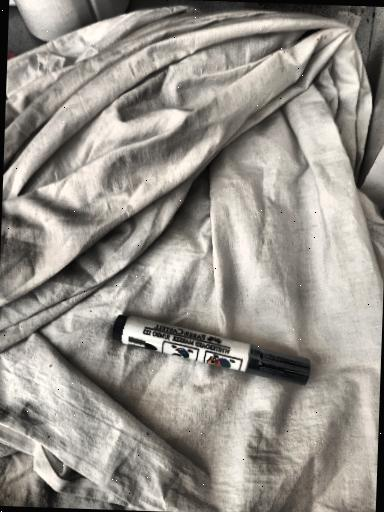marcador negro: (112, 315, 310, 384)
